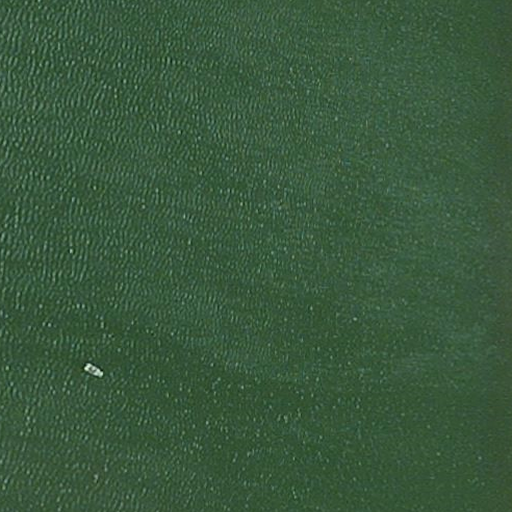ship: (81, 360, 105, 381)
